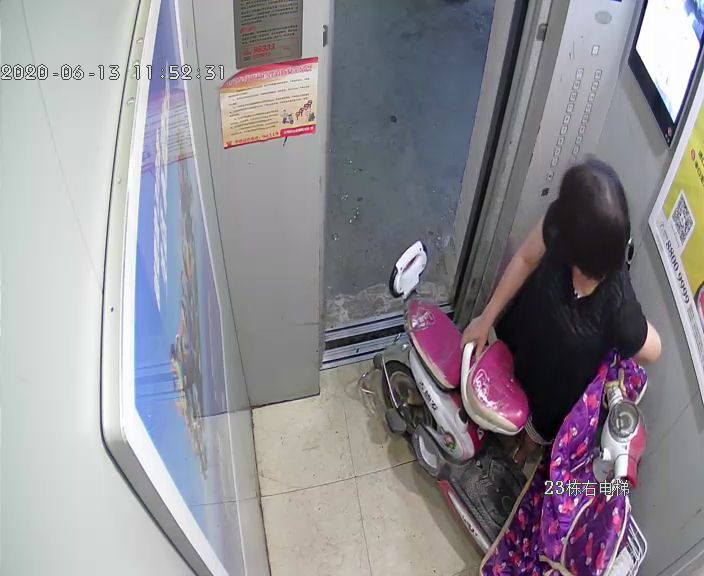Electric-bicycle: (362, 239, 648, 575)
